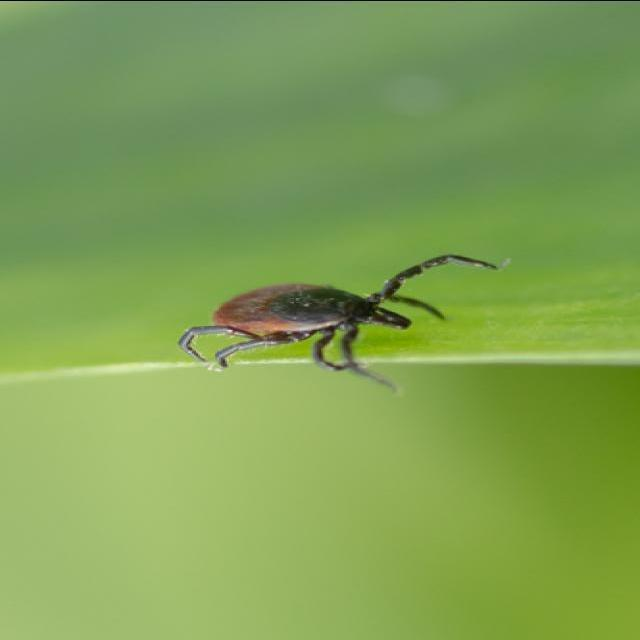Ixodes Ricinus-F: (179, 253, 504, 394)
